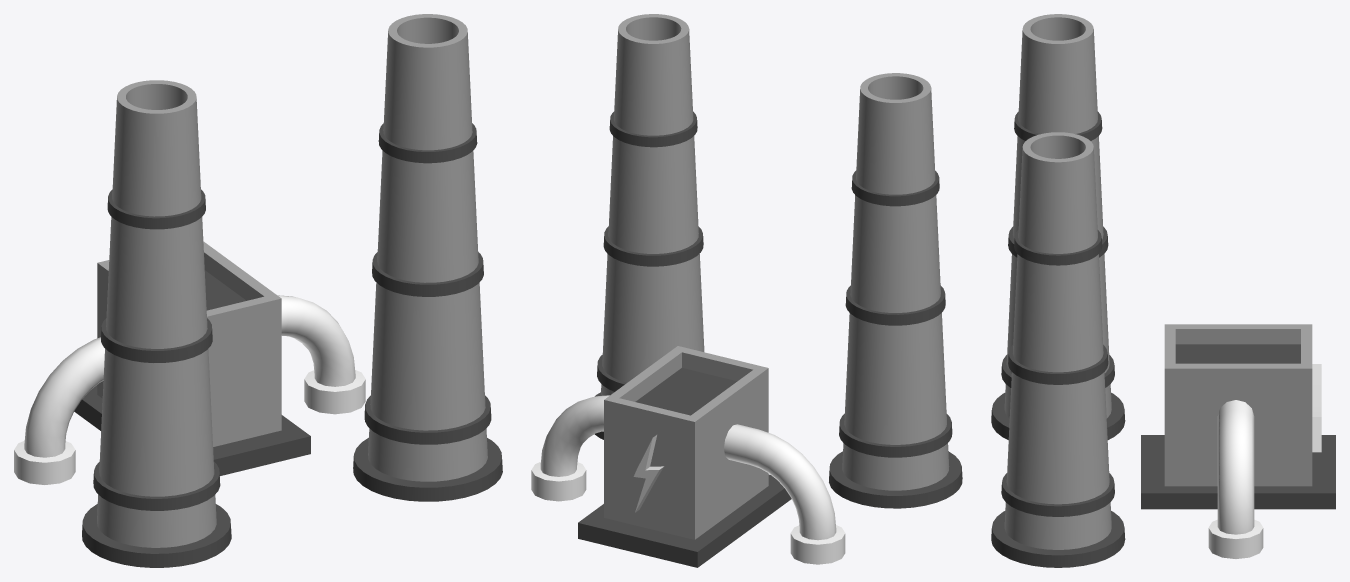
The model's file is Geothermal.fbx.
3 renders of one model, left to right at view 1: azimuth 30°, elevation 25°; view 2: azimuth 150°, elevation 25°; view 3: azimuth 270°, elevation 25°, orthographic. The views are drawn at different scales.
Visible parts, largest first — view 1: geothermal; view 2: geothermal; view 3: geothermal.
Boxes of the visible parts, x1=… form: geothermal: x1=14, y1=14, x2=502, y2=567; geothermal: x1=531, y1=14, x2=962, y2=567; geothermal: x1=991, y1=14, x2=1335, y2=567.
Bounding box in the file's own units: 763 × 809 × 636.
